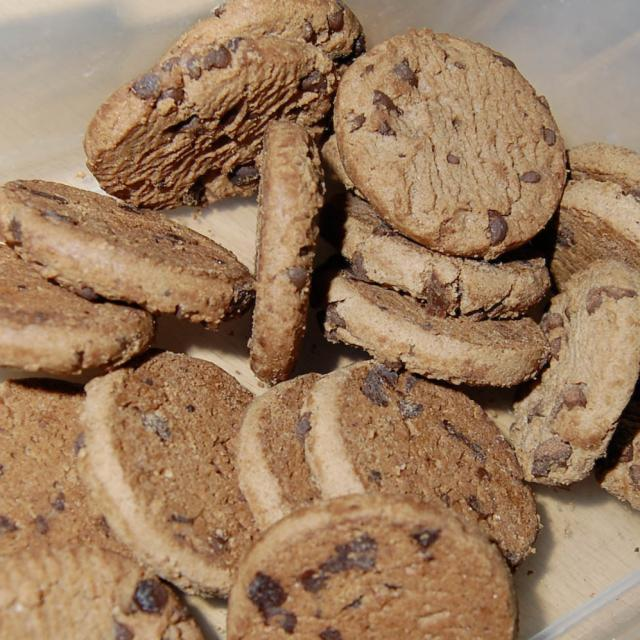Cookie: (329, 24, 574, 264), (69, 346, 271, 606), (305, 358, 545, 572), (81, 34, 344, 208), (229, 487, 520, 640), (0, 181, 255, 335), (509, 261, 640, 483), (0, 375, 130, 562), (246, 115, 327, 393), (0, 241, 159, 373), (0, 541, 202, 640), (157, 0, 368, 71), (238, 369, 324, 525), (540, 175, 640, 297), (592, 394, 640, 513), (559, 141, 640, 200), (313, 131, 372, 199)
